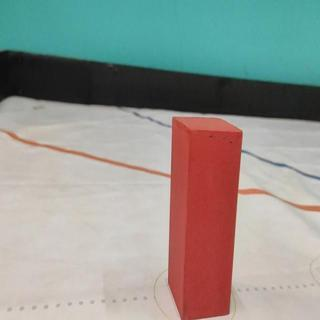redbox: (167, 115, 242, 320)
